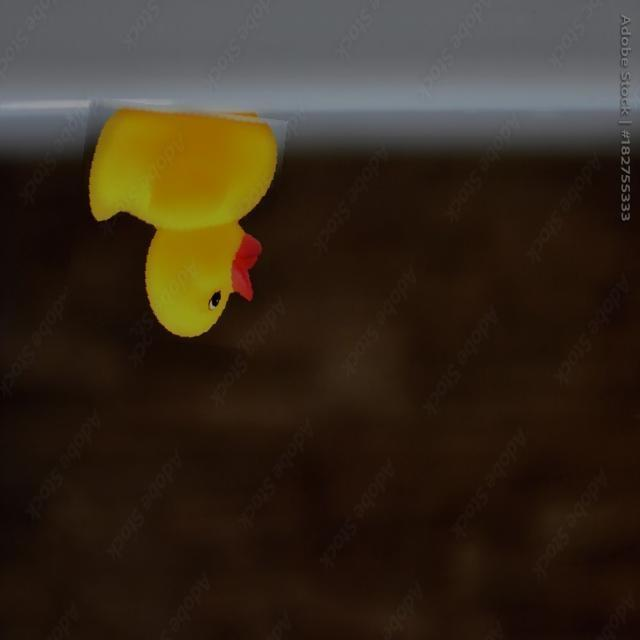rubber-duck: (88, 108, 275, 335)
